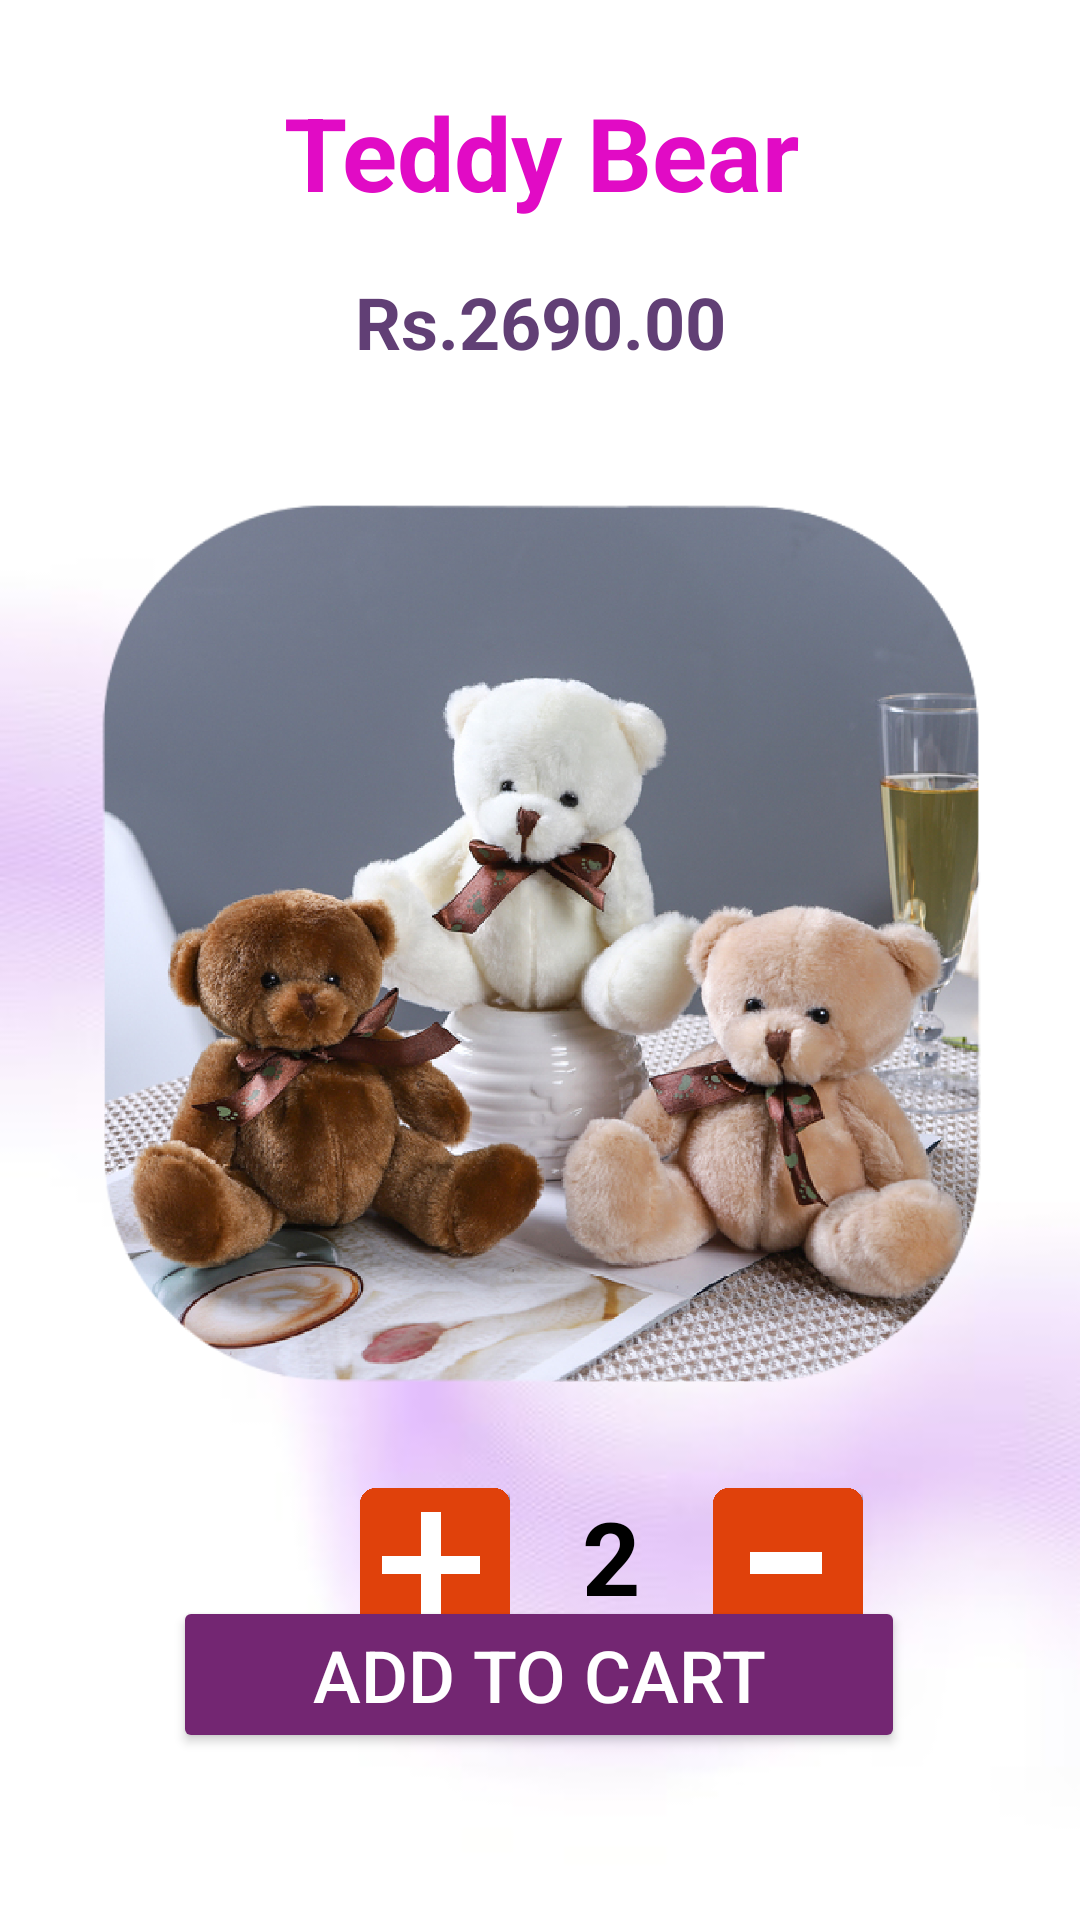

Icons on this 1080 × 1920 Android screen, each with the point to tap as point (x, y):
minus: point (788, 1563)
plus: point (435, 1563)
